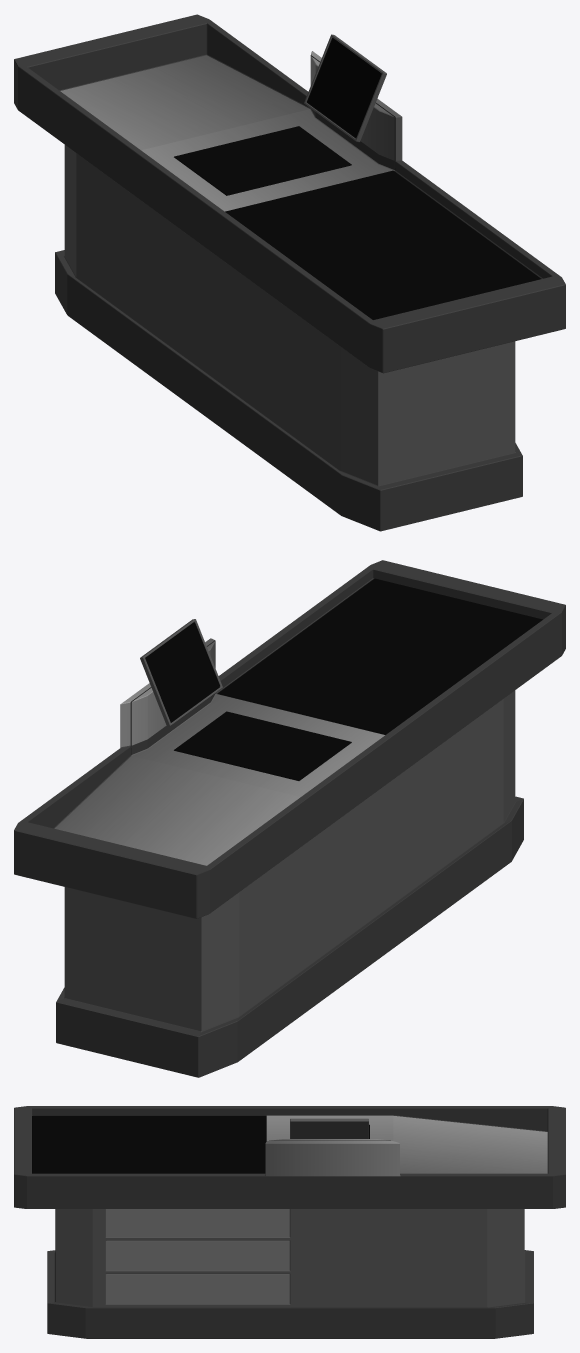
The model's file is SM_Build_Kasse_Schwarz.fbx.
The picture shows the model from 3 angles, top to bottom: view 1: azimuth 30°, elevation 25°; view 2: azimuth 150°, elevation 25°; view 3: azimuth 270°, elevation 25°; orthographic projection. The views are drawn at different scales.
Visible parts, largest first — view 1: Kasse Schwarz; view 2: Kasse Schwarz; view 3: Kasse Schwarz.
Boxes of the visible parts, left/top/right/bottom form: Kasse Schwarz: left=14, top=14, right=565, bottom=531; Kasse Schwarz: left=14, top=560, right=565, bottom=1077; Kasse Schwarz: left=14, top=1106, right=565, bottom=1338.
Size of the model in its own units: 0.9073 by 1.34 by 3.
